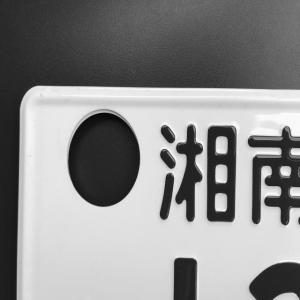Plate: (16, 86, 300, 300)
